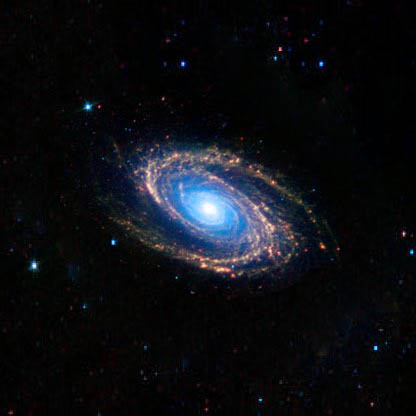Messier 81: (82, 132, 348, 294)
